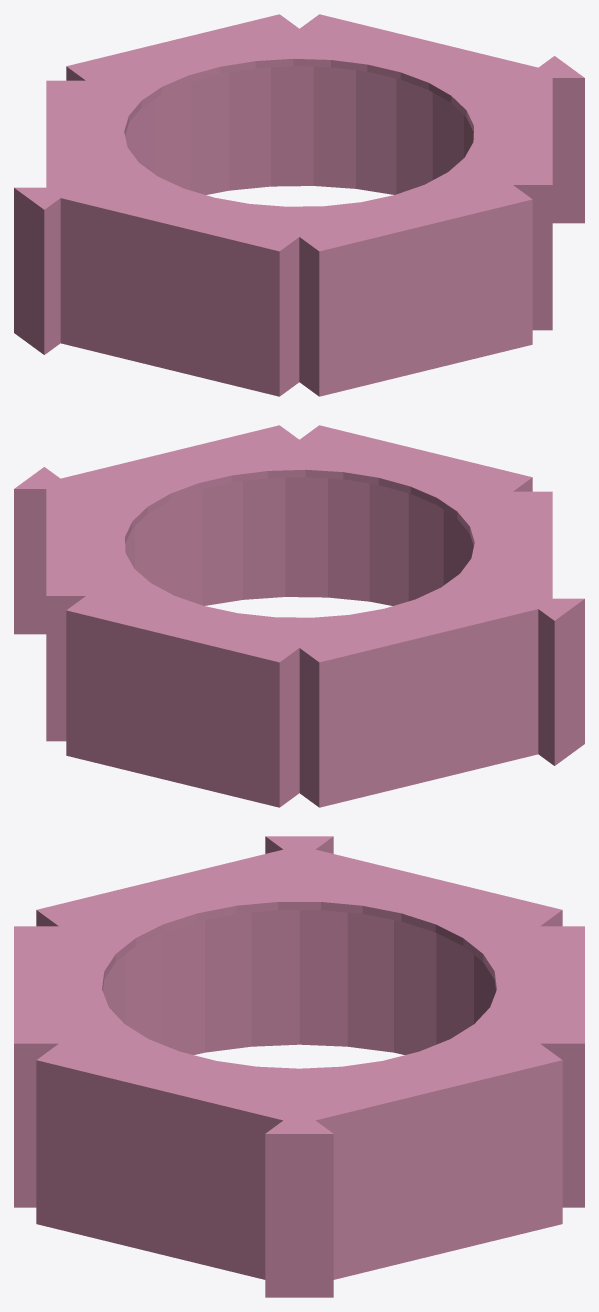
The picture shows the model from 3 angles, top to bottom: view 1: azimuth 30°, elevation 25°; view 2: azimuth 150°, elevation 25°; view 3: azimuth 270°, elevation 25°; orthographic projection. The views are drawn at different scales.
Visible parts, largest first — view 1: Mesh_Mesh_head_geo.001_lambert2SG.001; view 2: Mesh_Mesh_head_geo.001_lambert2SG.001; view 3: Mesh_Mesh_head_geo.001_lambert2SG.001.
Boxes of the visible parts, left/top/right/bottom form: Mesh_Mesh_head_geo.001_lambert2SG.001: left=14, top=14, right=584, bottom=396; Mesh_Mesh_head_geo.001_lambert2SG.001: left=14, top=425, right=584, bottom=807; Mesh_Mesh_head_geo.001_lambert2SG.001: left=14, top=836, right=584, bottom=1297.
Bounding box in the file's own units: 31.15 × 8 × 25.25.
